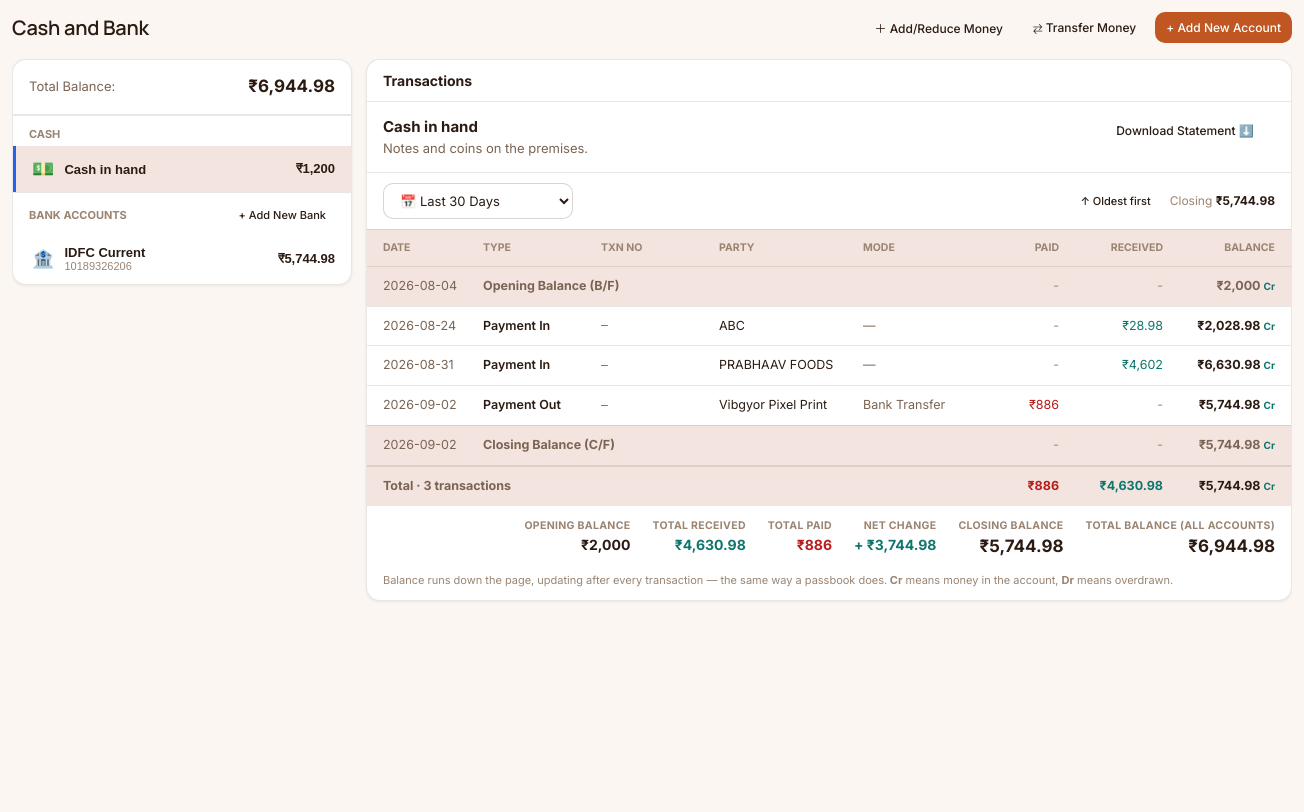
Test case: Cash & Bank statement reads like a passbook › newest-first puts the carried-forward line at the top
This screenshot has width=1304, height=812.
expect the number of buttons with test id "statement-row" is 3: met, box [367, 306, 1291, 345]; [367, 345, 1291, 385]; [367, 385, 1291, 425]
Click the button "↑ Oldest first" at (1116, 201), box [1071, 189, 1160, 213]
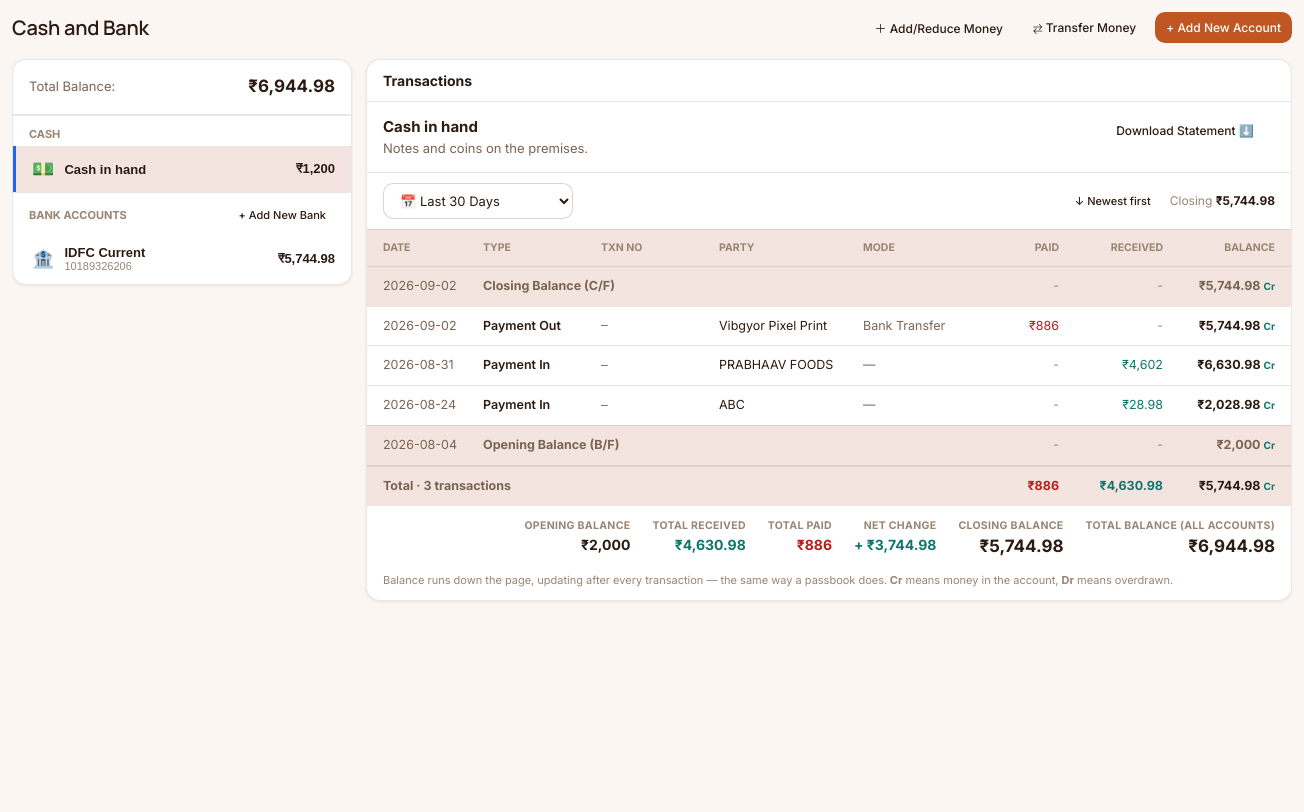
expect the text "Closing Balance (C/F)" is shown: met, box [483, 278, 615, 293]
